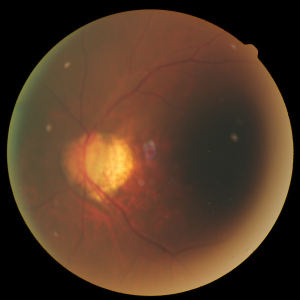glaucoma: (47, 100, 229, 209)
